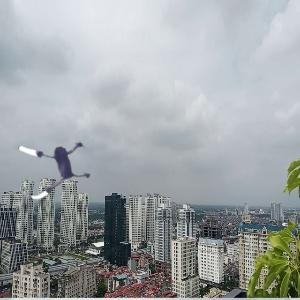drone: (13, 121, 100, 208)
